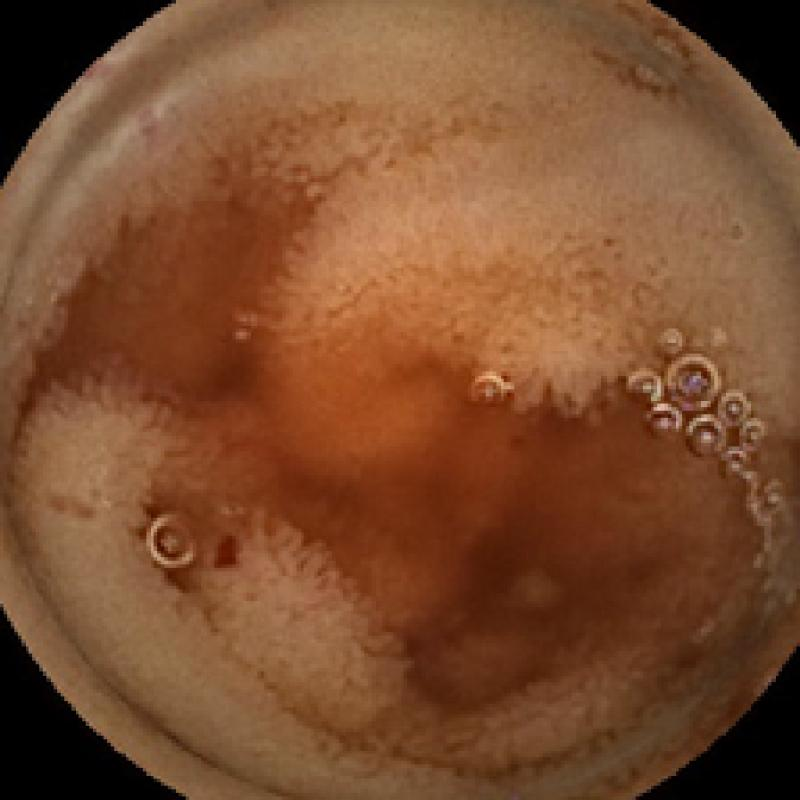bleeding: (200, 529, 261, 575)
